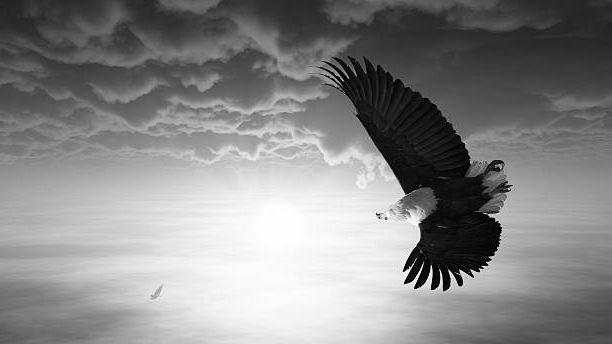Bird: (314, 45, 512, 294)
